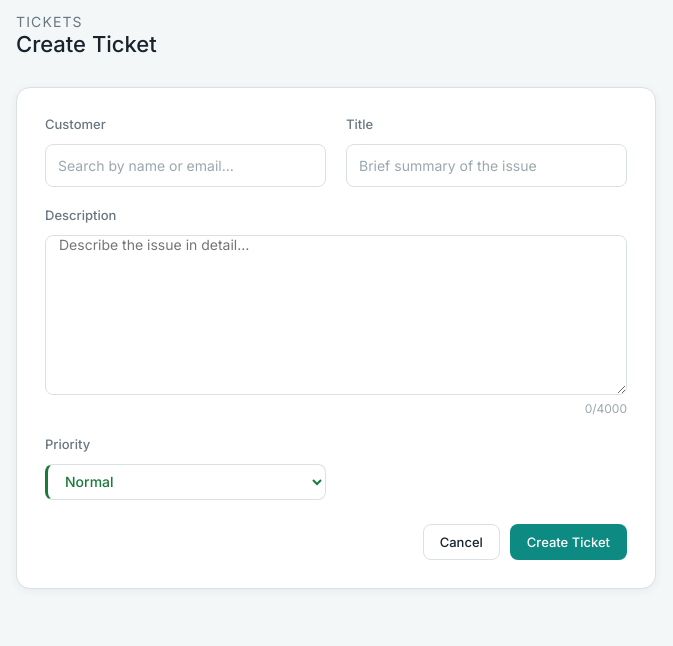
Test case: TicketCreateView › shows a required error for empty description
Type "Alice Johnson" into the field with id "ticket-customer" at x=186, y=165, box 45,144 -> 326,187
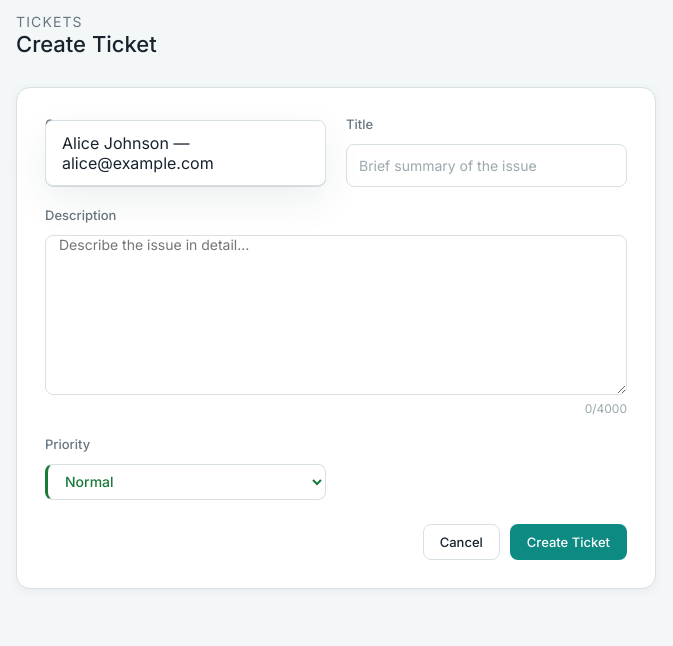
Click the list item "Alice Johnson — alice@example.com" at x=138, y=153, box 62,133 -> 214,173
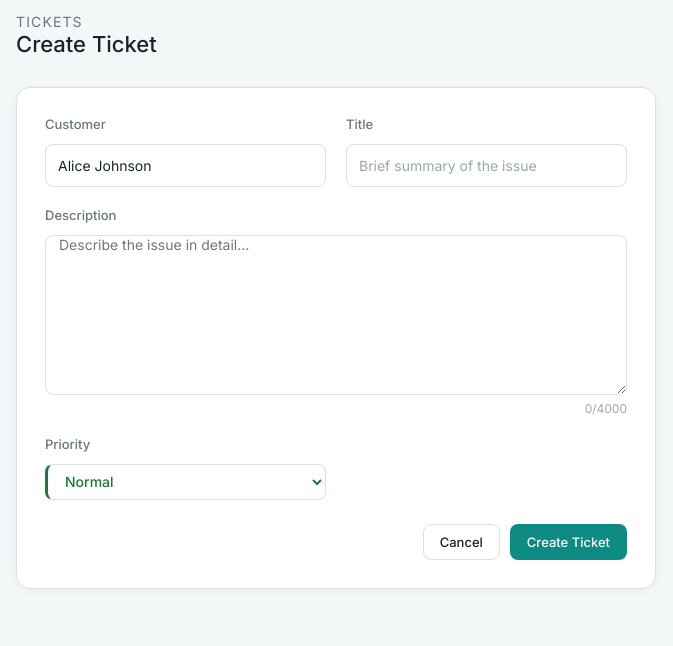
Type "Cannot log in" into the field with id "ticket-title" at x=486, y=165, box 346,144 -> 627,187
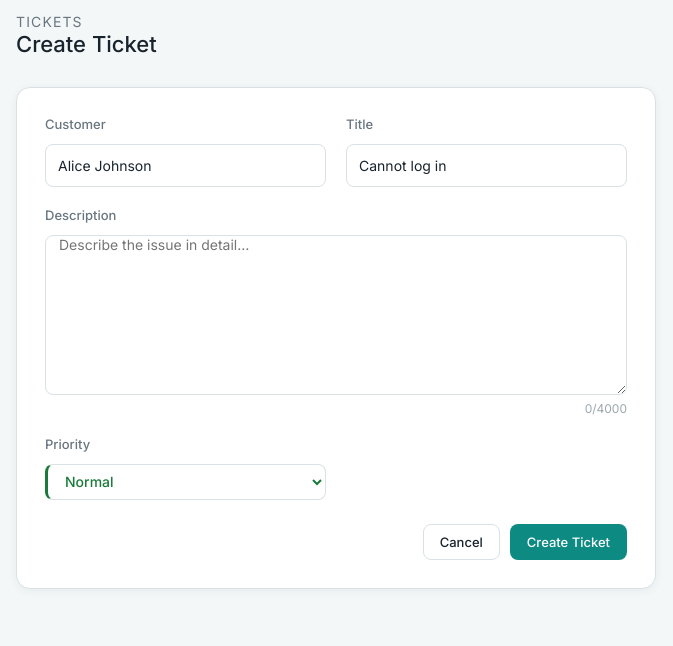
Submit the form
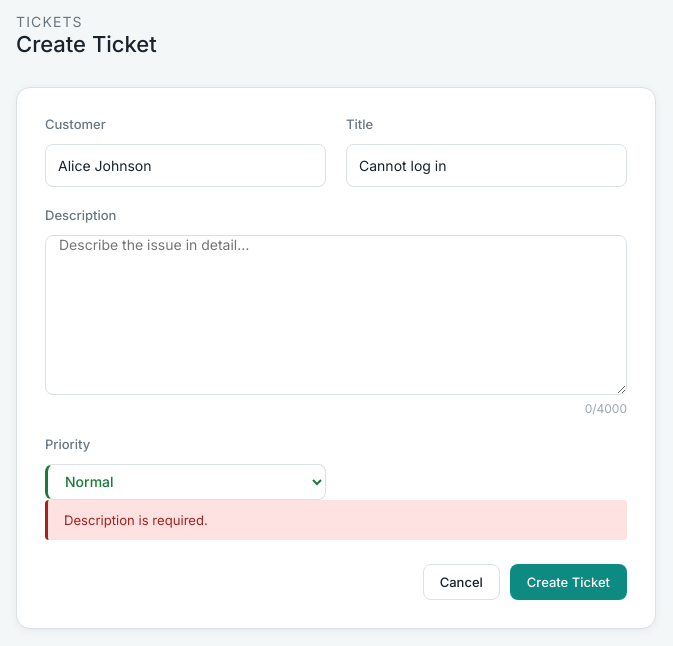
Check: the message "Description is required." is shown, box 45,500 -> 627,540
